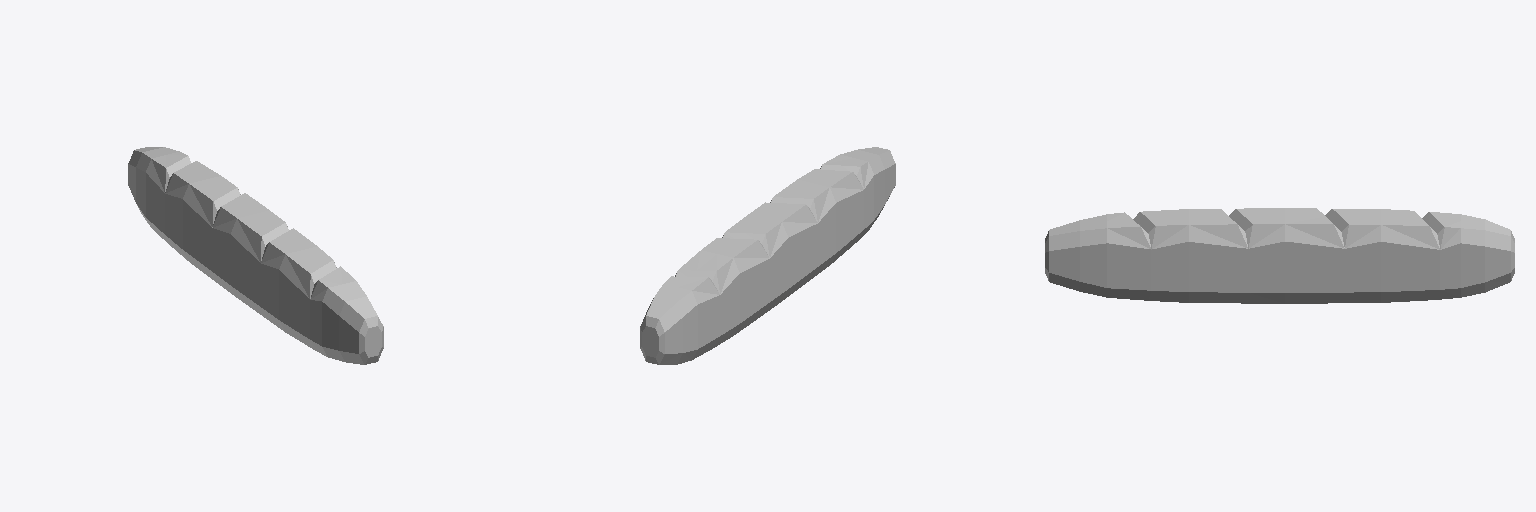
File: Baguette.obj
The picture shows the model from 3 angles: view 1: azimuth 30°, elevation 25°; view 2: azimuth 150°, elevation 25°; view 3: azimuth 270°, elevation 25°; orthographic projection.
Parts seen in each view (by area): view 1: Baguette; view 2: Baguette; view 3: Baguette.
Boxes of the visible parts, <box> form: Baguette: <box>128,147,383,364</box>; Baguette: <box>640,147,895,364</box>; Baguette: <box>1045,208,1514,303</box>.
Bounding box in the file's own units: 0.1184 × 0.1964 × 1.05.